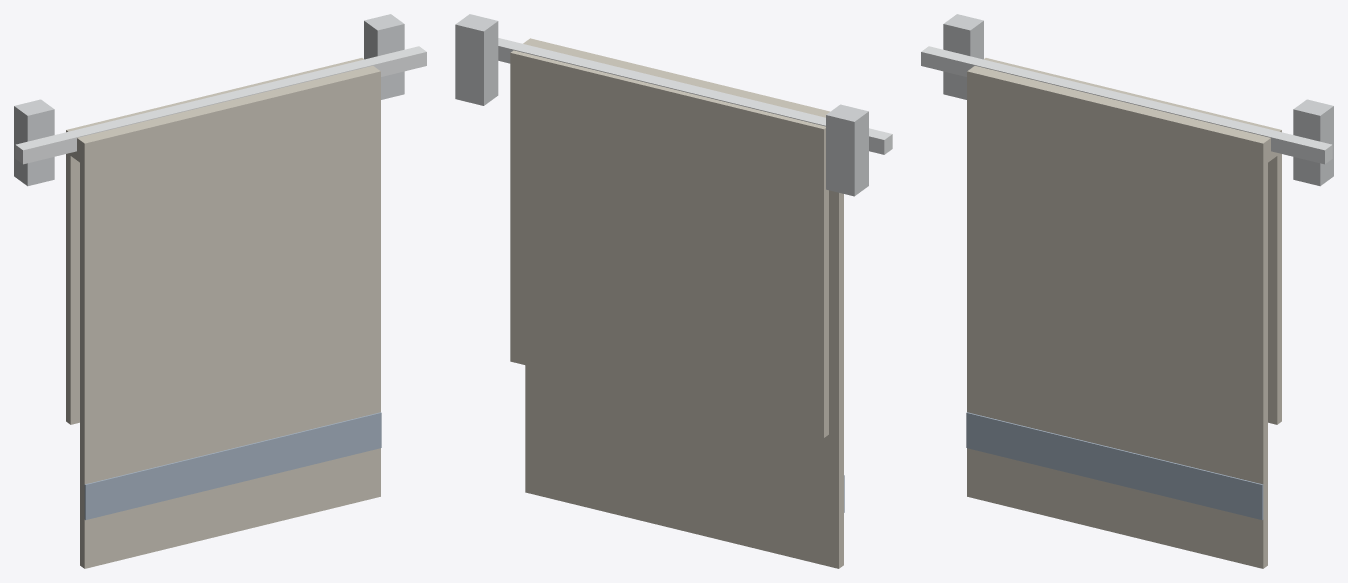
File: towel-rail.gltf
The picture shows the model from 3 angles, left to right: view 1: azimuth 30°, elevation 25°; view 2: azimuth 150°, elevation 25°; view 3: azimuth 330°, elevation 25°; orthographic projection. The views are drawn at different scales.
Visible parts, largest first — view 1: towel_front, towel_stripe, towel_fold, bar, towel_back, mount_l, mount_r; view 2: towel_back, towel_front, towel_fold, bar, mount_r, mount_l; view 3: towel_front, towel_stripe, towel_fold, bar, towel_back, mount_r, mount_l.
Part boxes in pixels (x1,y1,x2,y2): towel_front: (80, 94, 380, 568); towel_stripe: (84, 412, 381, 520); towel_fold: (66, 58, 380, 165); bar: (15, 46, 426, 164); towel_back: (66, 153, 79, 424); mount_l: (14, 99, 54, 186); mount_r: (364, 14, 404, 99); towel_back: (510, 74, 828, 437); towel_front: (525, 190, 843, 568); towel_fold: (510, 38, 829, 152); bar: (498, 38, 892, 154); mount_r: (455, 14, 498, 105); mount_l: (826, 104, 868, 196); towel_front: (967, 94, 1267, 568); towel_stripe: (966, 412, 1263, 520); towel_fold: (967, 58, 1281, 165); bar: (921, 46, 1332, 164); towel_back: (1268, 153, 1281, 424); mount_r: (1293, 99, 1333, 186); mount_l: (943, 14, 983, 99).
Size of the model in its own units: 0.0375 by 0.04 by 0.005.
